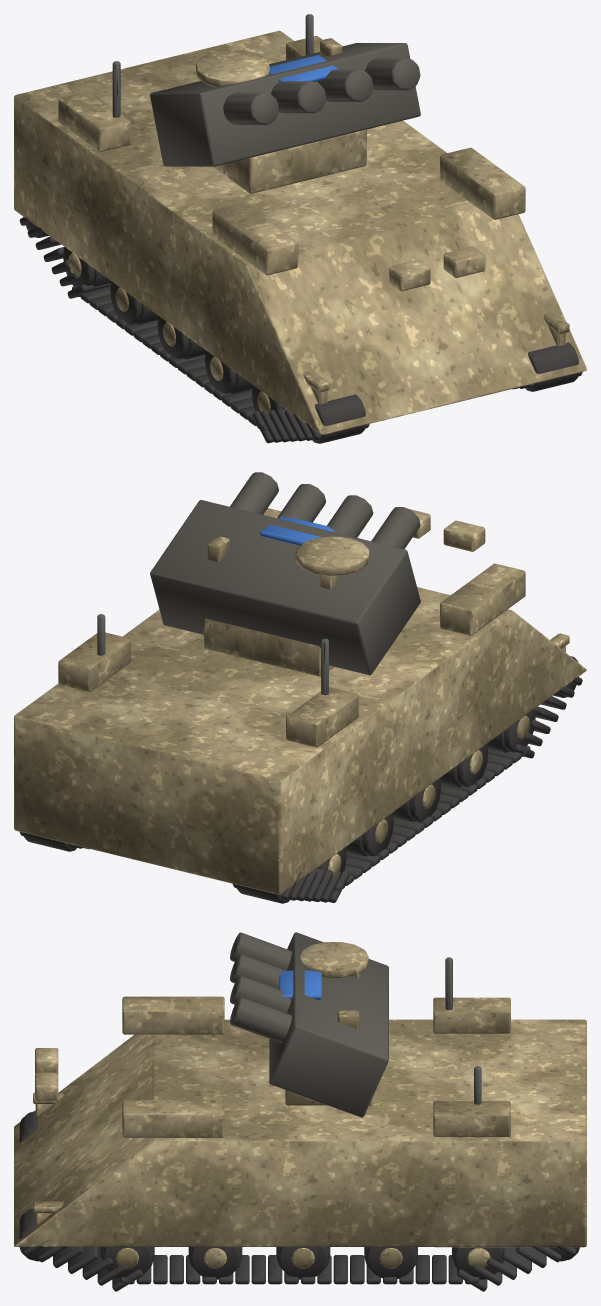
The model's file is afv_e4_us_atgm_LOD0.glb.
The picture shows the model from 3 angles, top to bottom: view 1: azimuth 30°, elevation 25°; view 2: azimuth 150°, elevation 25°; view 3: azimuth 270°, elevation 25°; orthographic projection. The views are drawn at different scales.
Visible parts, largest first — view 1: afv_e4_us_atgm_LOD0_body, afv_e4_us_atgm_LOD0_deck, afv_e4_us_atgm_LOD0_track, afv_e4_us_atgm_LOD0_team, afv_e4_us_atgm_LOD0_gun; view 2: afv_e4_us_atgm_LOD0_body, afv_e4_us_atgm_LOD0_deck, afv_e4_us_atgm_LOD0_track, afv_e4_us_atgm_LOD0_team, afv_e4_us_atgm_LOD0_gun; view 3: afv_e4_us_atgm_LOD0_body, afv_e4_us_atgm_LOD0_deck, afv_e4_us_atgm_LOD0_track, afv_e4_us_atgm_LOD0_team, afv_e4_us_atgm_LOD0_gun.
Boxes of the visible parts, left/top/right/bottom form: afv_e4_us_atgm_LOD0_body: left=14, top=30, right=586, bottom=434; afv_e4_us_atgm_LOD0_deck: left=150, top=43, right=420, bottom=166; afv_e4_us_atgm_LOD0_track: left=19, top=217, right=582, bottom=443; afv_e4_us_atgm_LOD0_team: left=269, top=55, right=338, bottom=82; afv_e4_us_atgm_LOD0_gun: left=112, top=14, right=313, bottom=117; afv_e4_us_atgm_LOD0_body: left=14, top=508, right=586, bottom=894; afv_e4_us_atgm_LOD0_deck: left=150, top=472, right=420, bottom=675; afv_e4_us_atgm_LOD0_track: left=19, top=656, right=582, bottom=903; afv_e4_us_atgm_LOD0_team: left=260, top=516, right=334, bottom=545; afv_e4_us_atgm_LOD0_gun: left=97, top=614, right=328, bottom=695; afv_e4_us_atgm_LOD0_body: left=14, top=942, right=586, bottom=1268; afv_e4_us_atgm_LOD0_deck: left=230, top=932, right=388, bottom=1117; afv_e4_us_atgm_LOD0_track: left=19, top=1111, right=579, bottom=1291; afv_e4_us_atgm_LOD0_team: left=279, top=970, right=321, bottom=999; afv_e4_us_atgm_LOD0_gun: left=445, top=957, right=481, bottom=1104.
Bounding box in the file's own units: 2.95 × 3.01 × 5.89.
5 materials, 1 textured.
